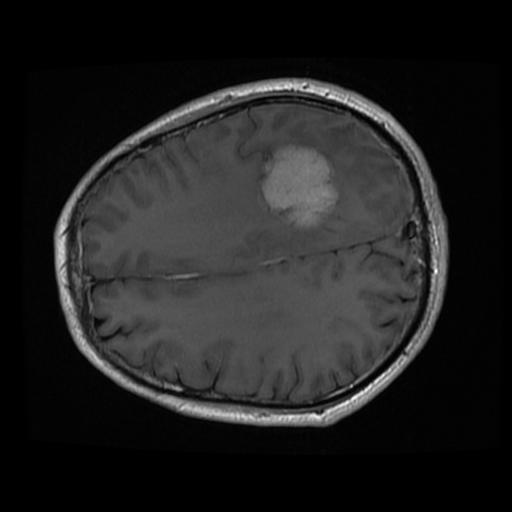meningioma: (259, 150, 337, 228)
